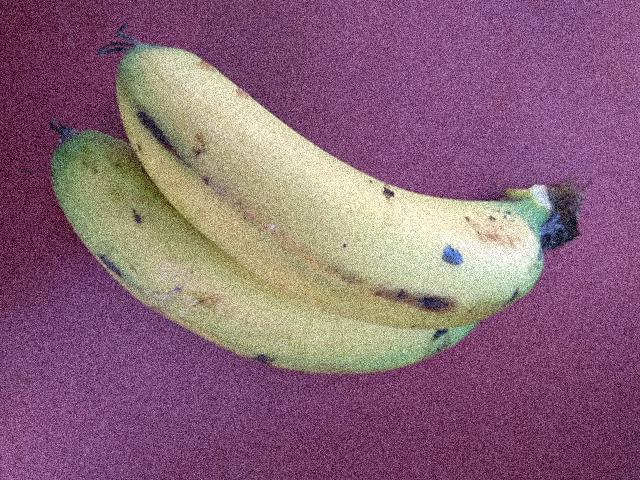ripe: (109, 27, 553, 307), (36, 117, 384, 399)
